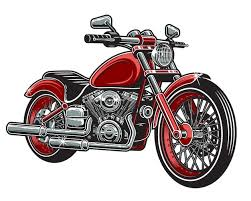motorcycle: (4, 14, 237, 187)
